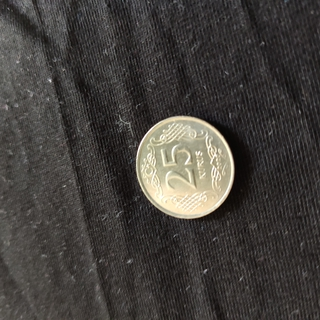25KURUS: (132, 113, 237, 220)
